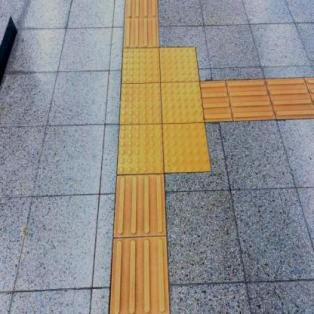Podoctatil: (91, 14, 243, 226), (111, 176, 170, 312), (206, 74, 314, 121), (123, 0, 159, 47)
